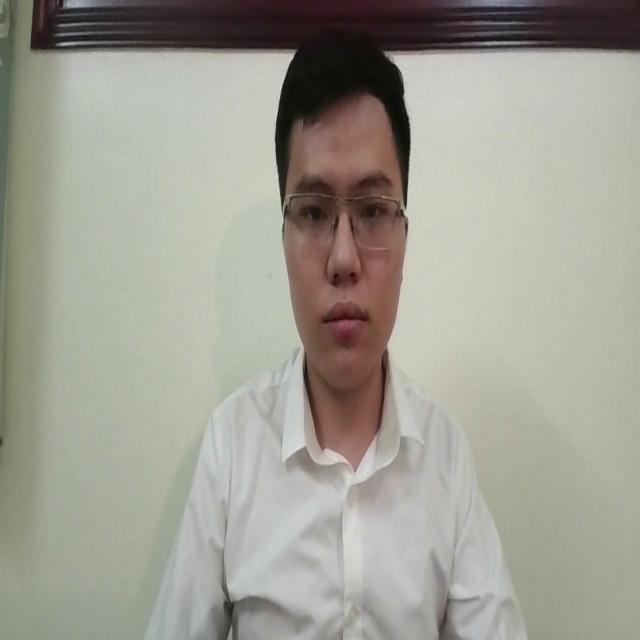student: (144, 22, 533, 640)
